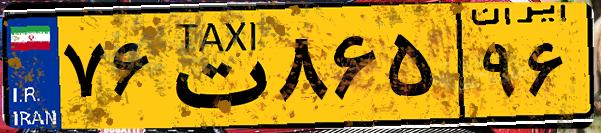5: (385, 28, 445, 110)
6: (330, 28, 385, 110), (525, 38, 570, 115), (110, 28, 158, 98)
7: (57, 26, 110, 100)
8: (270, 28, 330, 110)
9: (475, 38, 525, 113)
ت: (158, 12, 270, 120)
